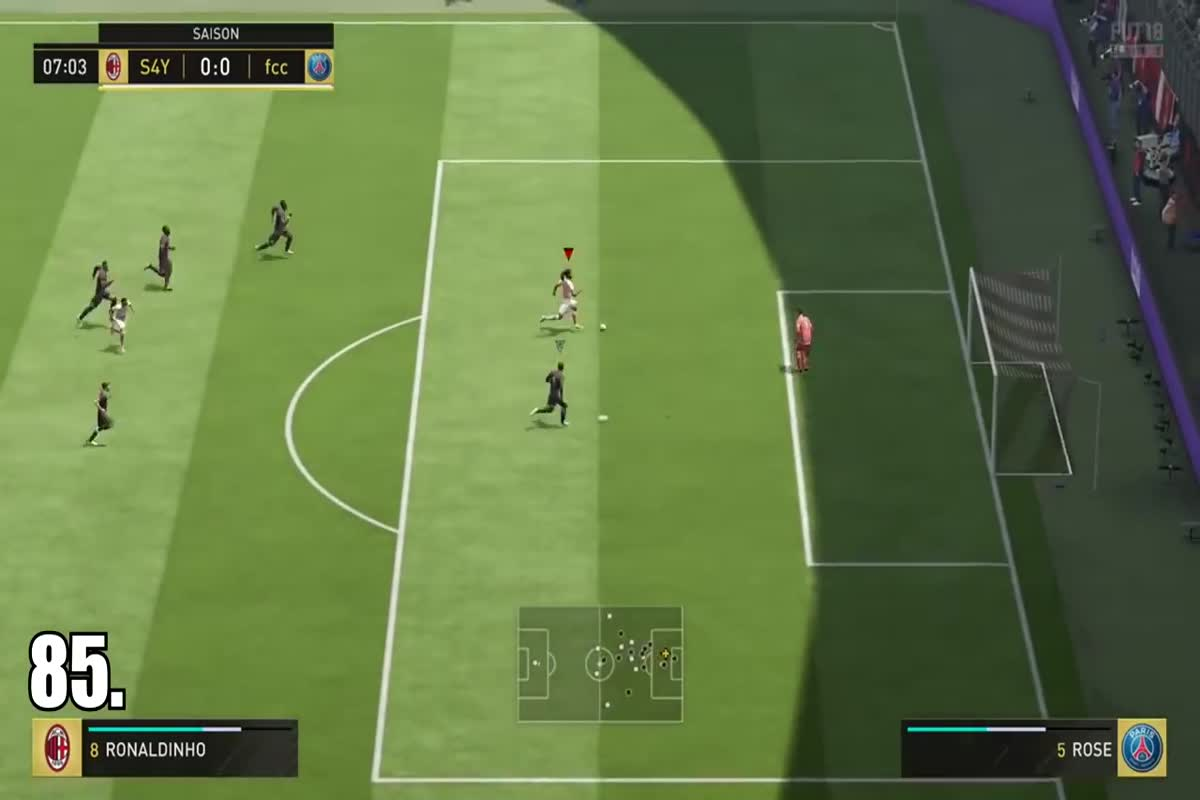ball: (588, 312, 624, 339)
